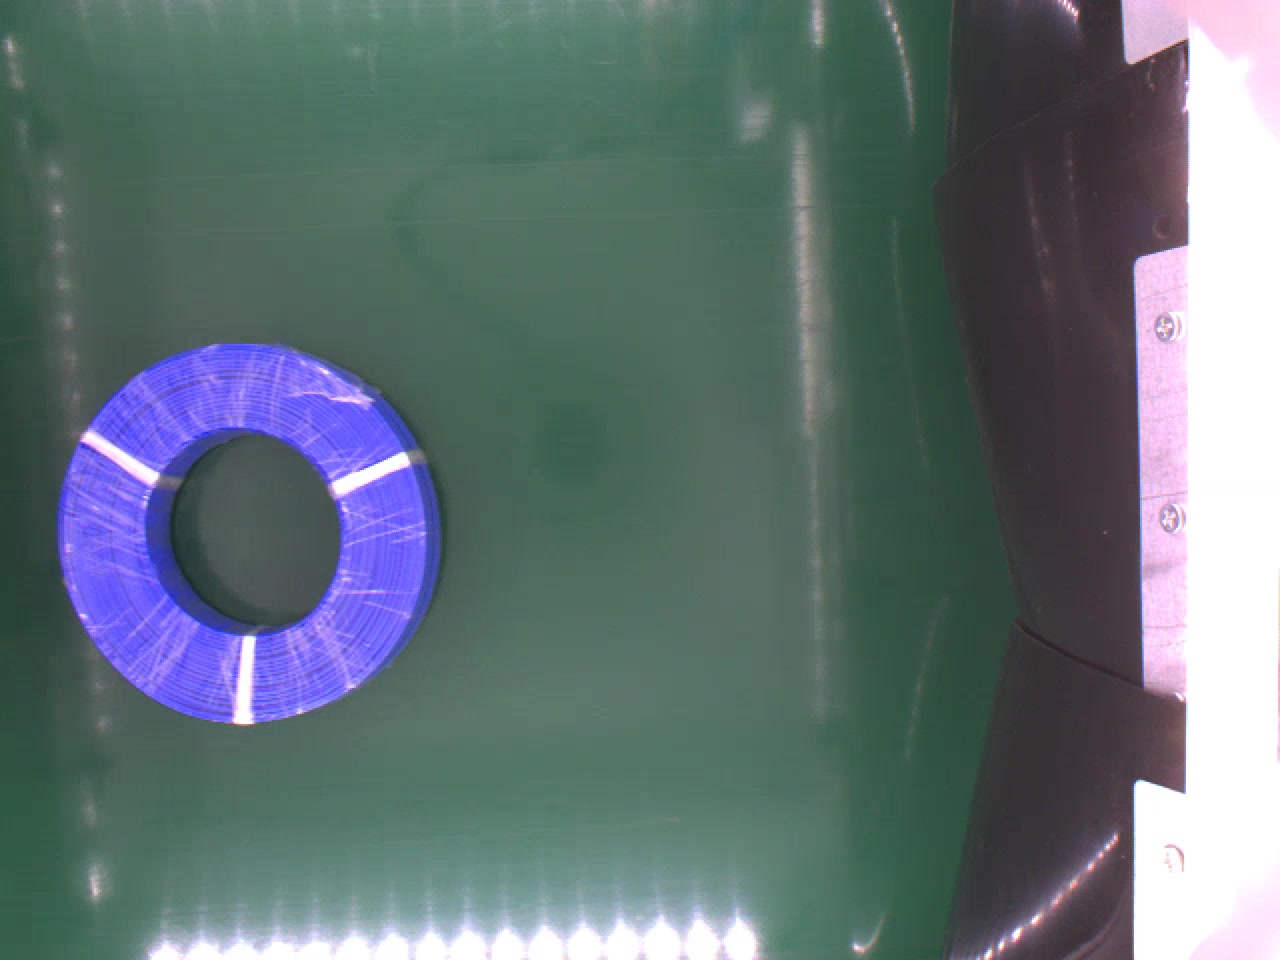blue: (57, 343, 441, 727)
